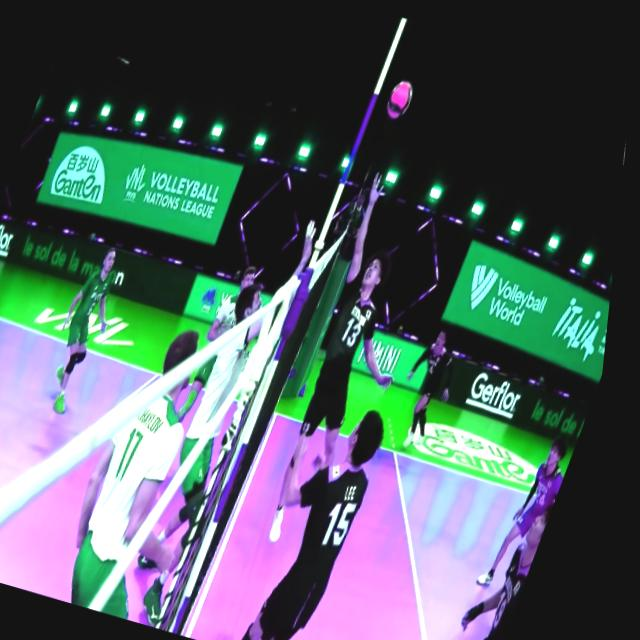player: (249, 165, 467, 553), (133, 202, 324, 627), (59, 317, 243, 620), (233, 386, 420, 640), (443, 484, 566, 640), (40, 240, 139, 419), (484, 429, 586, 596), (389, 315, 482, 453)
